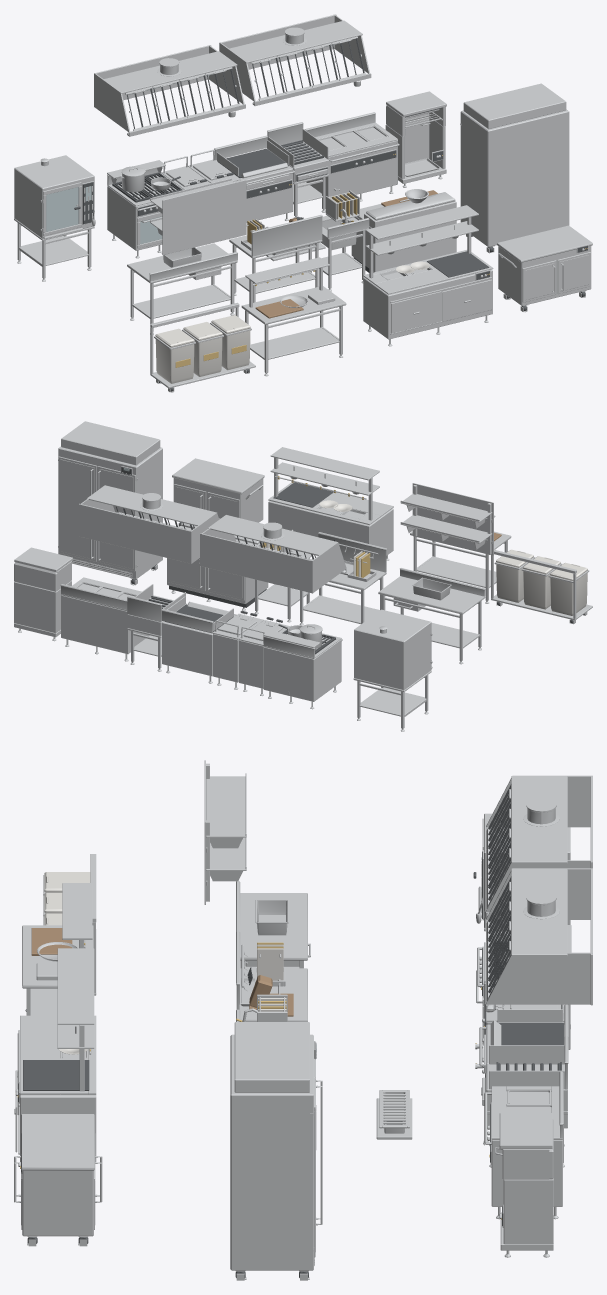
The model's file is working-kitchen-line.glb.
3 renders of one model, top to bottom at view 1: azimuth 30°, elevation 25°; view 2: azimuth 150°, elevation 25°; view 3: azimuth 270°, elevation 25°, orthographic. The views are drawn at different scales.
Visible parts, largest first — view 1: 015-upright-fridge-double/0, 016-hot-pass-with-gantry/0, 008-wall-extraction-canopy/0, 009-wall-extraction-canopy/0, 000-combi-oven-6-grid/0, 014-stainless-wall-shelf-double/0, 006-bain-marie/0, 017-expediting-bench/0, 007-salamander-grill/0, 010-prep-table-undershelf/0, 018-mobile-hot-cupboard/0, 011-chopping-station/0 (+24 smaller); view 2: 016-hot-pass-with-gantry/0, 008-wall-extraction-canopy/0, 000-combi-oven-6-grid/0, 009-wall-extraction-canopy/0, 015-upright-fridge-double/0, 014-stainless-wall-shelf-double/0, 001-range-6-burner/0, 006-bain-marie/0, 007-salamander-grill/0, 010-prep-table-undershelf/0, 004-flat-top-griddle/0, 011-chopping-station/0 (+19 smaller); view 3: 015-upright-fridge-double/0, 009-wall-extraction-canopy/0, 018-mobile-hot-cupboard/0, 016-hot-pass-with-gantry/0, 008-wall-extraction-canopy/0, 007-salamander-grill/0, 014-stainless-wall-shelf-double/0, 006-bain-marie/0, 017-expediting-bench/0, 005-chargrill/0, 010-prep-table-undershelf/0, 011-chopping-station/0 (+15 smaller).
Part boxes in pixels (x1,y1,x2,y2): 015-upright-fridge-double/0: [460, 83, 569, 253]; 016-hot-pass-with-gantry/0: [363, 205, 493, 346]; 008-wall-extraction-canopy/0: [94, 45, 245, 136]; 009-wall-extraction-canopy/0: [219, 14, 371, 105]; 000-combi-oven-6-grid/0: [14, 155, 95, 281]; 014-stainless-wall-shelf-double/0: [150, 178, 246, 254]; 006-bain-marie/0: [304, 112, 399, 201]; 017-expediting-bench/0: [241, 257, 346, 376]; 007-salamander-grill/0: [385, 91, 446, 187]; 010-prep-table-undershelf/0: [127, 243, 237, 334]; 018-mobile-hot-cupboard/0: [497, 225, 592, 312]; 011-chopping-station/0: [229, 214, 322, 302]; 016-hot-pass-with-gantry/0: [268, 447, 393, 560]; 008-wall-extraction-canopy/0: [200, 515, 346, 593]; 000-combi-oven-6-grid/0: [353, 609, 432, 731]; 009-wall-extraction-canopy/0: [79, 485, 219, 563]; 015-upright-fridge-double/0: [58, 421, 162, 585]; 014-stainless-wall-shelf-double/0: [400, 483, 493, 555]; 001-range-6-burner/0: [263, 625, 342, 709]; 006-bain-marie/0: [60, 577, 149, 661]; 007-salamander-grill/0: [14, 547, 72, 641]; 010-prep-table-undershelf/0: [378, 568, 485, 664]; 004-flat-top-griddle/0: [161, 596, 236, 683]; 011-chopping-station/0: [299, 532, 386, 625]; 015-upright-fridge-double/0: [230, 1022, 316, 1280]; 009-wall-extraction-canopy/0: [484, 868, 592, 1012]; 018-mobile-hot-cupboard/0: [18, 1114, 94, 1246]; 016-hot-pass-with-gantry/0: [15, 948, 96, 1161]; 008-wall-extraction-canopy/0: [484, 775, 592, 918]; 007-salamander-grill/0: [499, 1113, 553, 1257]; 014-stainless-wall-shelf-double/0: [204, 760, 246, 904]; 006-bain-marie/0: [483, 1071, 563, 1219]; 017-expediting-bench/0: [22, 883, 93, 1015]; 005-chargrill/0: [485, 1036, 568, 1167]; 010-prep-table-undershelf/0: [236, 881, 307, 968]; 011-chopping-station/0: [236, 931, 307, 1021].
Bounding box in the file's own units: 7.95 × 2.81 × 5.68.
